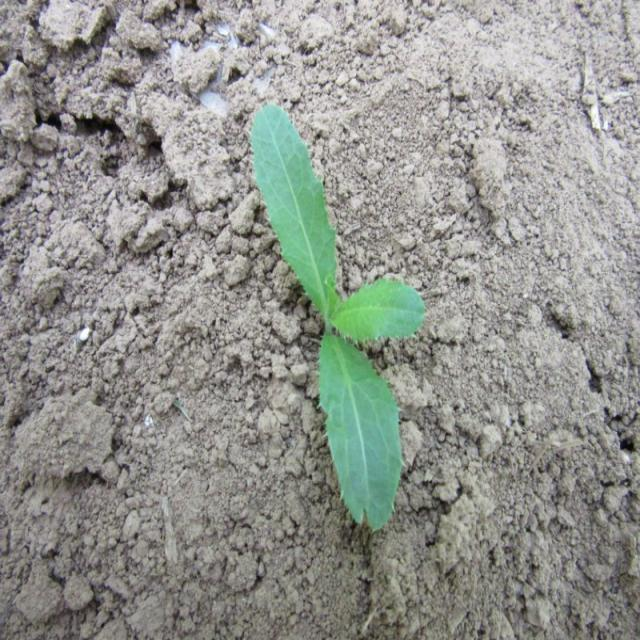field_thistle: (215, 84, 426, 546)
